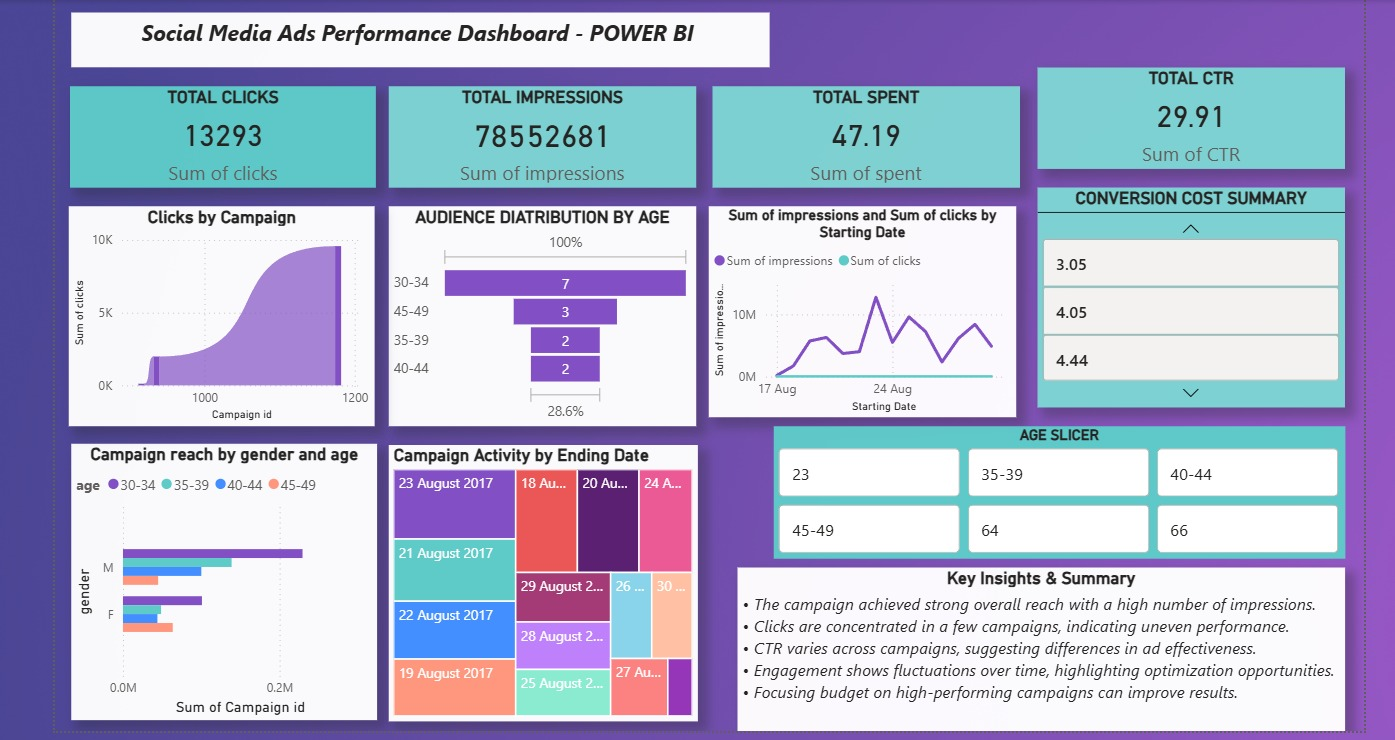

The dashboard page shown, as its layout file describes it:
{"tool":"powerbi","page":{"name":"Page 1","canvas":[1280,720],"ordinal":0},"visuals":[{"type":"card","title":"TOTAL CLICKS","fields":{"Values":["Sum(data (2).clicks)"]},"box":[14.7,89.3,299.6,99],"z":0},{"type":"card","title":"TOTAL IMPRESSIONS","fields":{"Values":["Sum(data (2).impressions)"]},"box":[326.5,89.3,300.8,99],"z":1000},{"type":"card","title":"TOTAL SPENT","fields":{"Values":["Sum(data.spent)"]},"box":[643.2,89.3,300.8,99],"z":2000},{"type":"card","title":"TOTAL CTR","fields":{"Values":["Sum(data (2).CTR)"]},"box":[961.1,70.9,300.8,99],"z":3000},{"type":"clusteredBarChart","title":"Campaign reach by gender and age","fields":{"Series":["data (2).age"],"Category":["data (2).gender"],"Y":["Sum(data (2).Campaign id)"]},"box":[15.9,439,299.6,270.2],"z":4000},{"type":"funnel","title":"AUDIENCE DIATRIBUTION BY AGE","fields":{"Category":["data.age"],"Y":["CountNonNull(data.gender)"]},"box":[326.5,206.7,300.8,215.2],"z":5000},{"type":"cardVisual","title":"CONVERSION COST SUMMARY","fields":{"Data":["Sum(data.approved_conversion)"],"Rows":["data.spent"]},"box":[961.1,188.3,300.8,215.2],"z":7000},{"type":"ribbonChart","title":"Clicks by Campaign","fields":{"Category":["data (2).Campaign id"],"Y":["Sum(data (2).clicks)"]},"box":[13.5,206.7,299.6,215.2],"z":7001},{"type":"lineChart","fields":{"Category":["data (2).Starting Date"],"Y":["Sum(data (2).impressions)","Sum(data (2).clicks)"]},"box":[639.5,206.7,300.8,206.7],"z":7002},{"type":"treemap","title":" Campaign Activity by Ending Date","fields":{"Group":["data (2).Ending Date"],"Values":["Sum(data (2).Campaign id)"]},"box":[326.5,440.2,302,270.2],"z":7003},{"type":"textbox","title":"Key Insights & Summary","box":[667.7,560.1,594.3,160.2],"z":7004},{"type":"textbox","box":[15.9,17.1,683.6,53.8],"z":7005},{"type":"advancedSlicerVisual","title":"AGE SLICER","fields":{"Values":["data (2).age"]},"box":[703.1,421.9,558.8,129.6],"z":7006}]}

Visuals, with their boxes in screenshot pixels (x1, y1, x2, y2):
"TOTAL CLICKS" card: bbox=[69, 83, 374, 184]
"TOTAL IMPRESSIONS" card: bbox=[386, 83, 691, 184]
"TOTAL SPENT" card: bbox=[707, 83, 1013, 184]
"TOTAL CTR" card: bbox=[1030, 65, 1335, 165]
"Campaign reach by gender and age" clusteredBarChart: bbox=[71, 438, 375, 713]
"AUDIENCE DIATRIBUTION BY AGE" funnel: bbox=[386, 203, 691, 421]
"CONVERSION COST SUMMARY" cardVisual: bbox=[1030, 184, 1335, 402]
"Clicks by Campaign" ribbonChart: bbox=[68, 203, 372, 421]
lineChart - data (2).Starting Date x Sum(data (2).impressions): bbox=[704, 203, 1009, 412]
" Campaign Activity by Ending Date" treemap: bbox=[386, 440, 692, 714]
"Key Insights & Summary" textbox: bbox=[732, 561, 1336, 724]
textbox: bbox=[71, 10, 765, 65]
"AGE SLICER" advancedSlicerVisual: bbox=[768, 421, 1335, 553]
